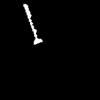half_double_crochet: (24, 4, 41, 43)
